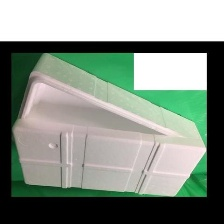foam_box: (7, 52, 207, 200)
